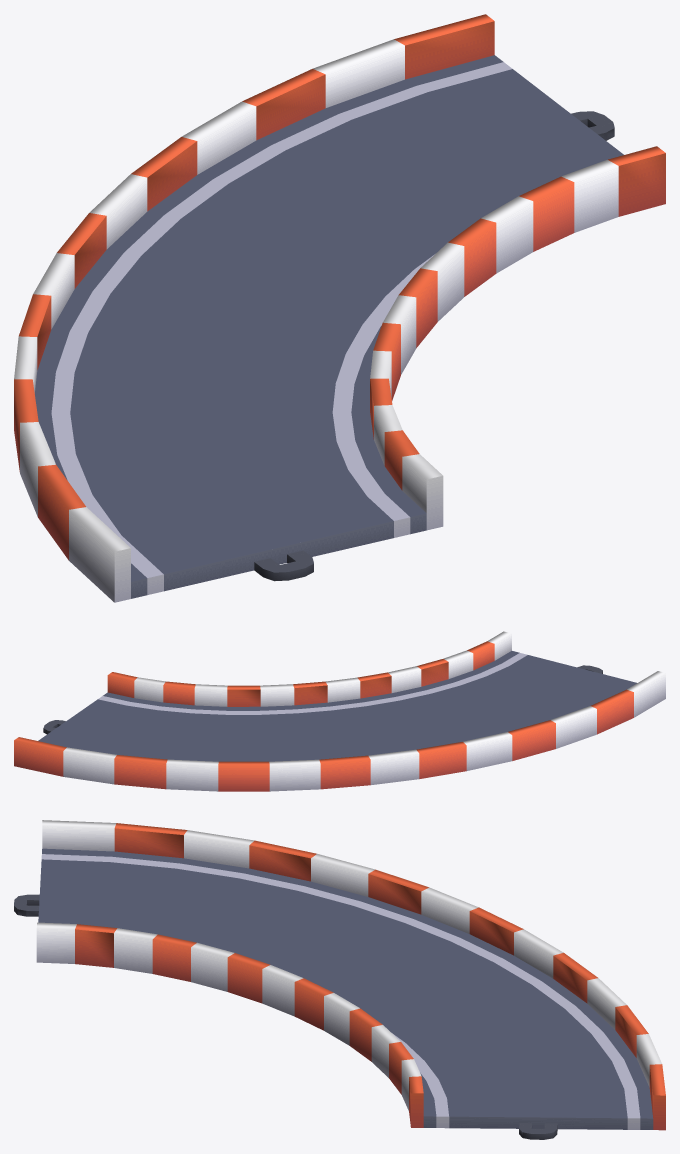
Rendered from track-road-wide-corner-large.017_lev1.glb.
3 views of the same model, one above another, from view 1: azimuth 30°, elevation 25°; view 2: azimuth 150°, elevation 25°; view 3: azimuth 270°, elevation 25° (orthographic). The views are drawn at different scales.
Visible parts, largest first — view 1: track-road-wide-corner-large.017_lev1; view 2: track-road-wide-corner-large.017_lev1; view 3: track-road-wide-corner-large.017_lev1.
Boxes of the visible parts, bbox=[...] form: track-road-wide-corner-large.017_lev1: bbox=[14, 14, 665, 602]; track-road-wide-corner-large.017_lev1: bbox=[14, 631, 665, 791]; track-road-wide-corner-large.017_lev1: bbox=[14, 820, 665, 1139].
Size of the model in its own units: 5.29 by 0.3 by 5.11.
1 material, 1 textured.
